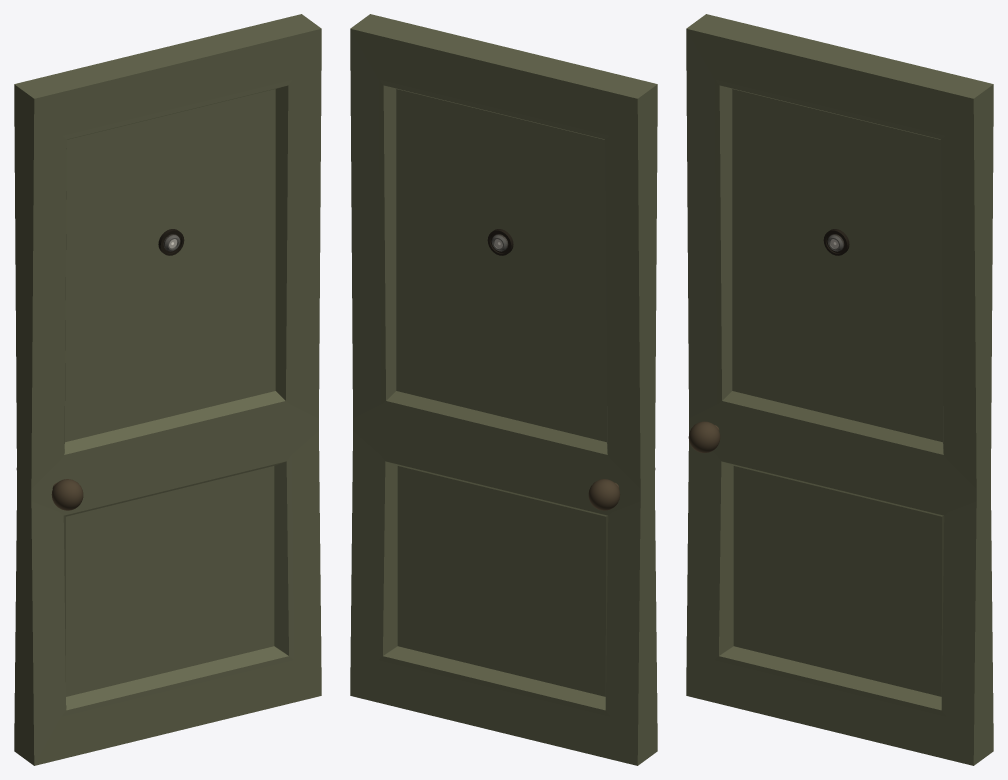
Rendered from DoorWithEyes.fbx.
The picture shows the model from 3 angles, left to right: view 1: azimuth 30°, elevation 25°; view 2: azimuth 150°, elevation 25°; view 3: azimuth 330°, elevation 25°; orthographic projection.
Parts seen in each view (by area): view 1: MainDoor, DoorHandles, DoorEyes; view 2: MainDoor, DoorHandles, DoorEyes; view 3: MainDoor, DoorHandles, DoorEyes.
Part boxes in pixels (x1,y1,x2,y2): MainDoor: (14,14,321,765); DoorHandles: (16,468,83,510); DoorEyes: (158,229,184,255); MainDoor: (350,14,657,765); DoorHandles: (588,468,655,510); DoorEyes: (487,229,513,255); MainDoor: (686,14,993,765); DoorHandles: (688,421,720,453); DoorEyes: (823,229,849,255).
Size of the model in its own units: 91.96 by 204 by 28.22.
1 material, 1 textured.
